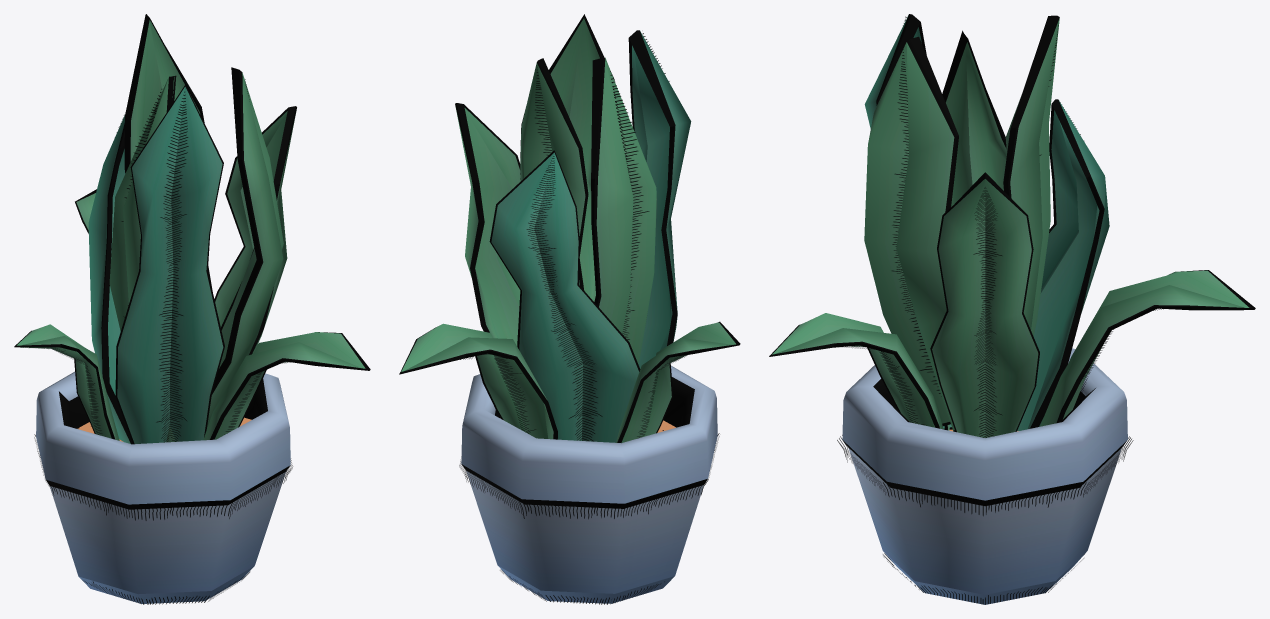
Rendered from flower-pot-small-02.glb.
The picture shows the model from 3 angles, left to right: view 1: azimuth 30°, elevation 25°; view 2: azimuth 150°, elevation 25°; view 3: azimuth 270°, elevation 25°; orthographic projection. The views are drawn at different scales.
Visible parts, largest first — view 1: FlowerPot_Small_02; view 2: FlowerPot_Small_02; view 3: FlowerPot_Small_02.
Part boxes in pixels (x1,y1,x2,y2): FlowerPot_Small_02: (14, 14, 370, 604); FlowerPot_Small_02: (399, 14, 740, 604); FlowerPot_Small_02: (769, 14, 1255, 604).
Size of the model in its own units: 0.851 by 1.51 by 1.19.
3 materials, 3 textured.
